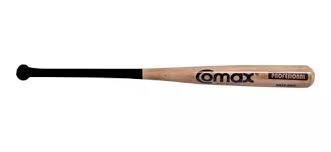Baseball-Bat: (16, 64, 315, 88)
